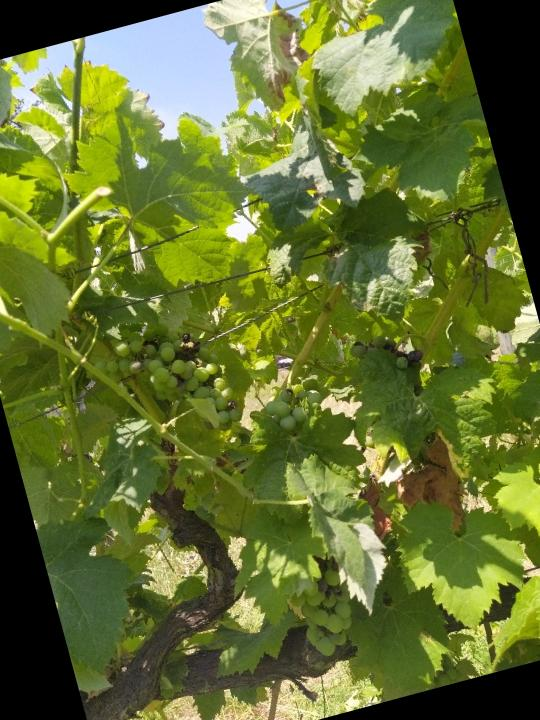grape: (97, 305, 244, 452)
